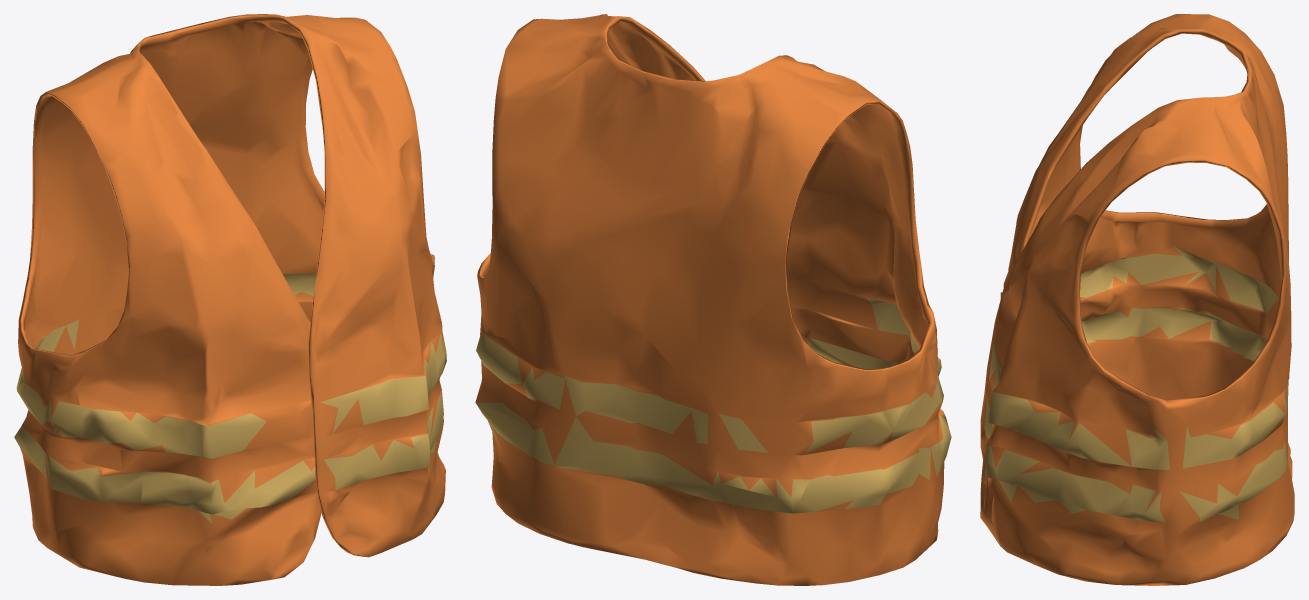
File: hi-vis-vest.glb
3 views of the same model, side by side, from view 1: azimuth 30°, elevation 25°; view 2: azimuth 150°, elevation 25°; view 3: azimuth 270°, elevation 25° (orthographic). The views are drawn at different scales.
Visible parts, largest first — view 1: hi-vis-vest; view 2: hi-vis-vest; view 3: hi-vis-vest.
Part boxes in pixels (bbox=[...]): hi-vis-vest: bbox=[14, 14, 446, 585]; hi-vis-vest: bbox=[475, 14, 951, 585]; hi-vis-vest: bbox=[980, 14, 1294, 585].
Bounding box in the file's own units: 0.645 × 0.7 × 0.4554.
